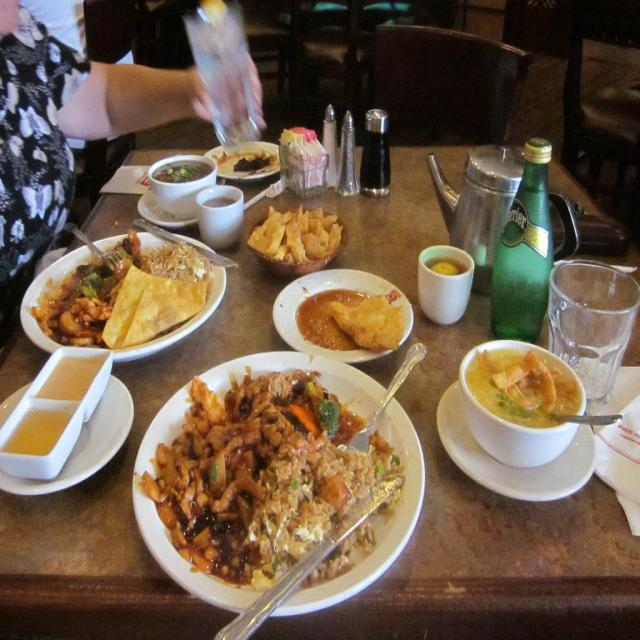Tea: (426, 256, 465, 276), (201, 196, 237, 210)
